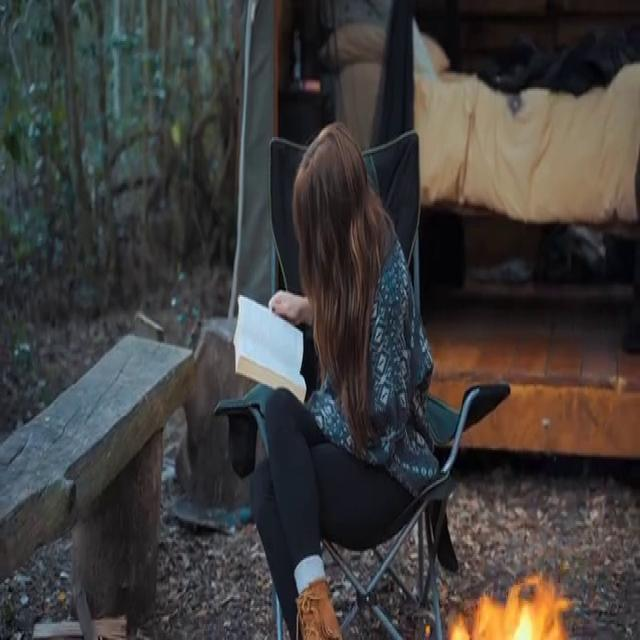Fire: (448, 572, 578, 640)
